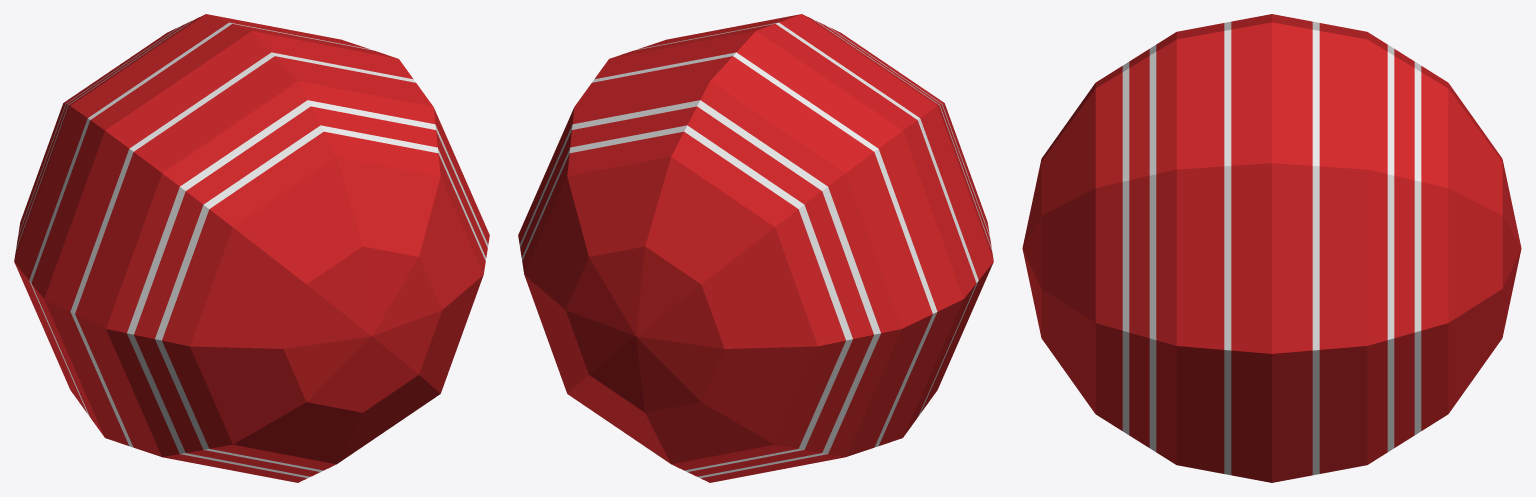
The model's file is Cricket Ball.fbx.
3 renders of one model, left to right at view 1: azimuth 30°, elevation 25°; view 2: azimuth 150°, elevation 25°; view 3: azimuth 270°, elevation 25°, orthographic. The views are drawn at different scales.
Parts seen in each view (by area): view 1: Cricket Ball; view 2: Cricket Ball; view 3: Cricket Ball.
Part boxes in pixels (box(x1,y1,x2,y2)): Cricket Ball: box(14, 14, 489, 482); Cricket Ball: box(518, 14, 993, 482); Cricket Ball: box(1022, 14, 1521, 482).
Bounding box in the file's own units: 88 × 88 × 88.
